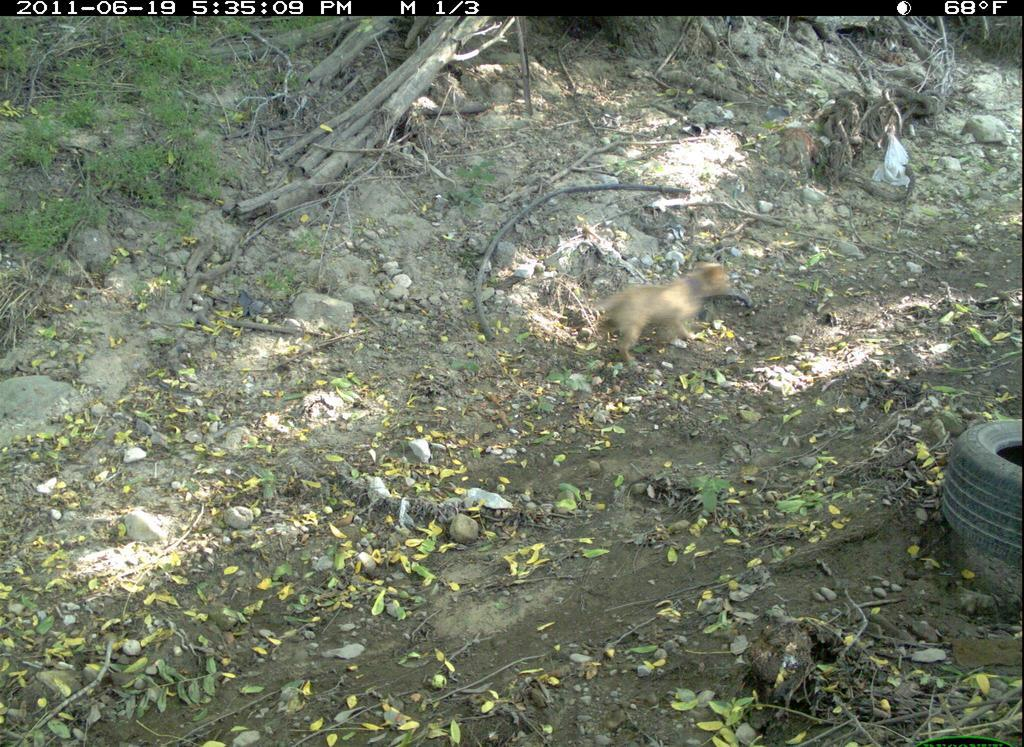dog: (578, 255, 740, 378)
